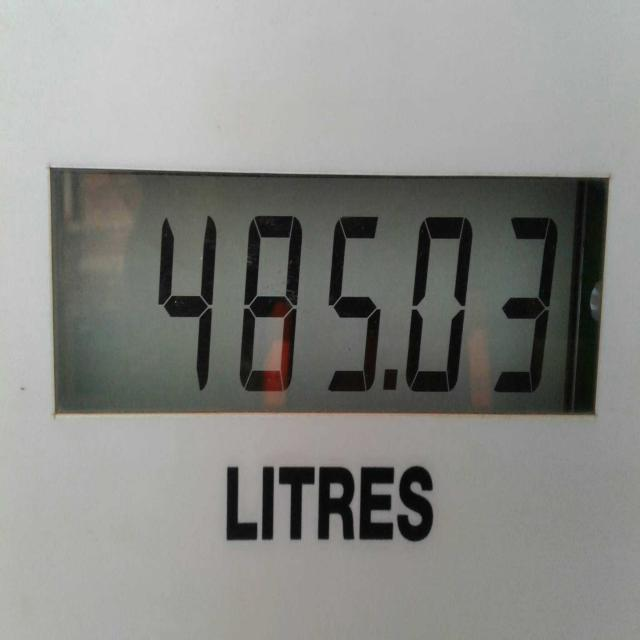.: (380, 351, 404, 403)
0: (398, 200, 479, 401)
3: (490, 200, 567, 406)
4: (148, 200, 227, 401)
5: (319, 197, 384, 401)
8: (238, 201, 316, 403)
